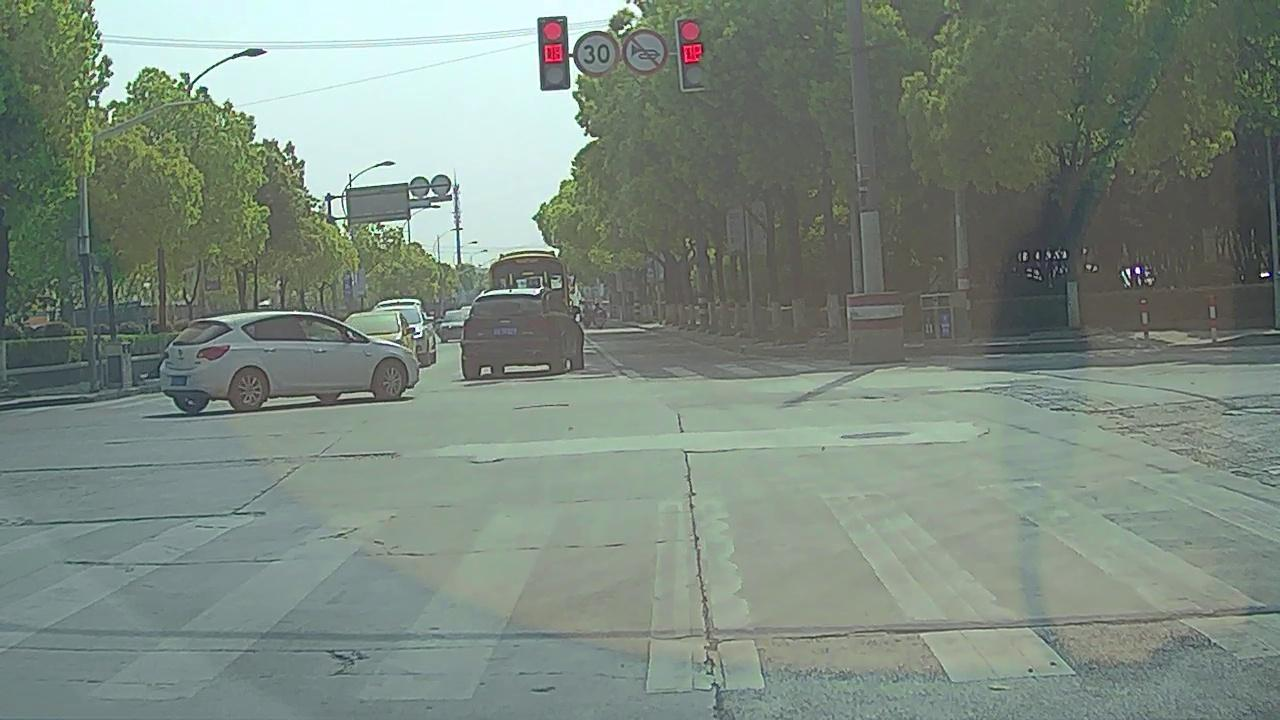traffic_light: (538, 18, 570, 88), (677, 20, 709, 89)
